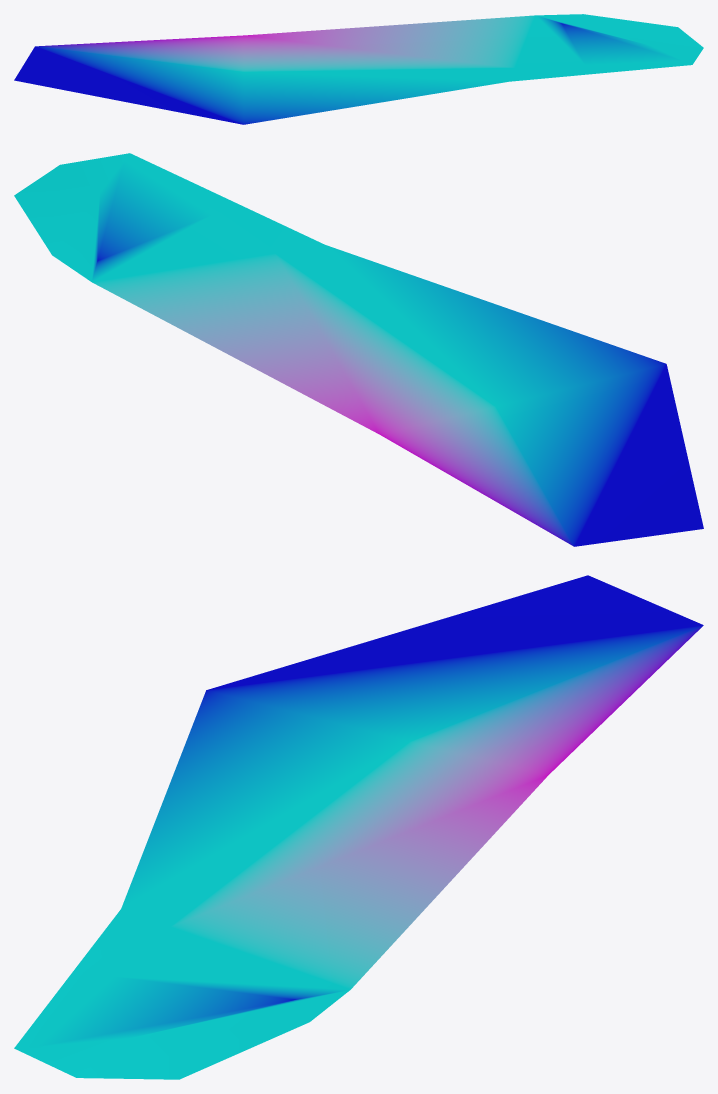
3 views of the same model, one above another, from view 1: azimuth 30°, elevation 25°; view 2: azimuth 150°, elevation 25°; view 3: azimuth 270°, elevation 25° (orthographic). The views are drawn at different scales.
Parts seen in each view (by area): view 1: SM_VFX_GF_River01_LOD0; view 2: SM_VFX_GF_River01_LOD0; view 3: SM_VFX_GF_River01_LOD0.
Boxes of the visible parts, left/top/right/bottom form: SM_VFX_GF_River01_LOD0: left=14, top=14, right=703, bottom=124; SM_VFX_GF_River01_LOD0: left=14, top=153, right=703, bottom=546; SM_VFX_GF_River01_LOD0: left=14, top=575, right=703, bottom=1079.
Bounding box in the file's own units: 85.38 × 0.3335 × 49.59.
